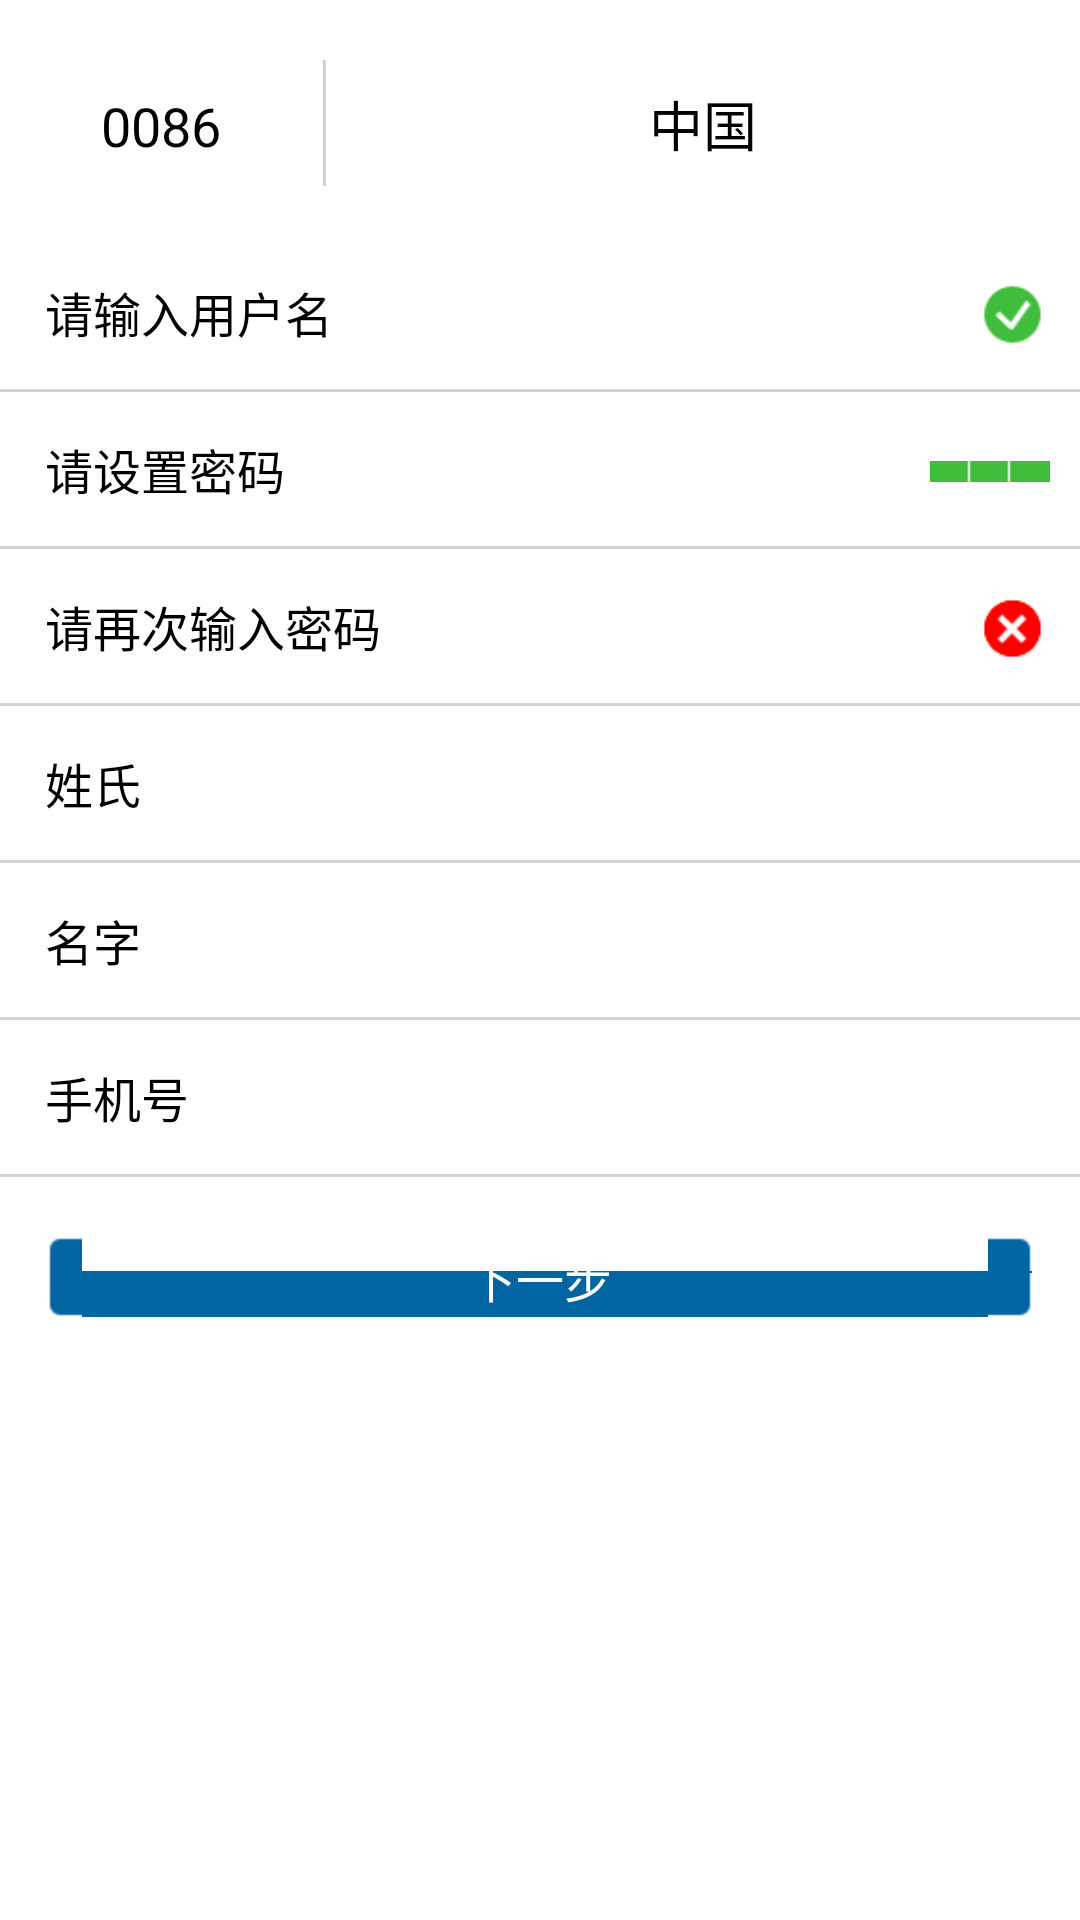

Icon click points for this 1080px x 1920px phone screenshot, format [x,y]:
check: [1012,314]
uncheck: [1012,628]
